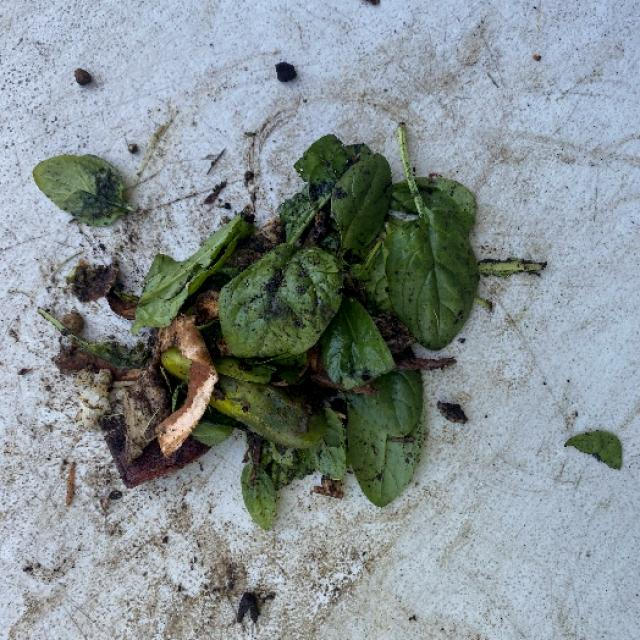organic: (39, 108, 491, 480)
